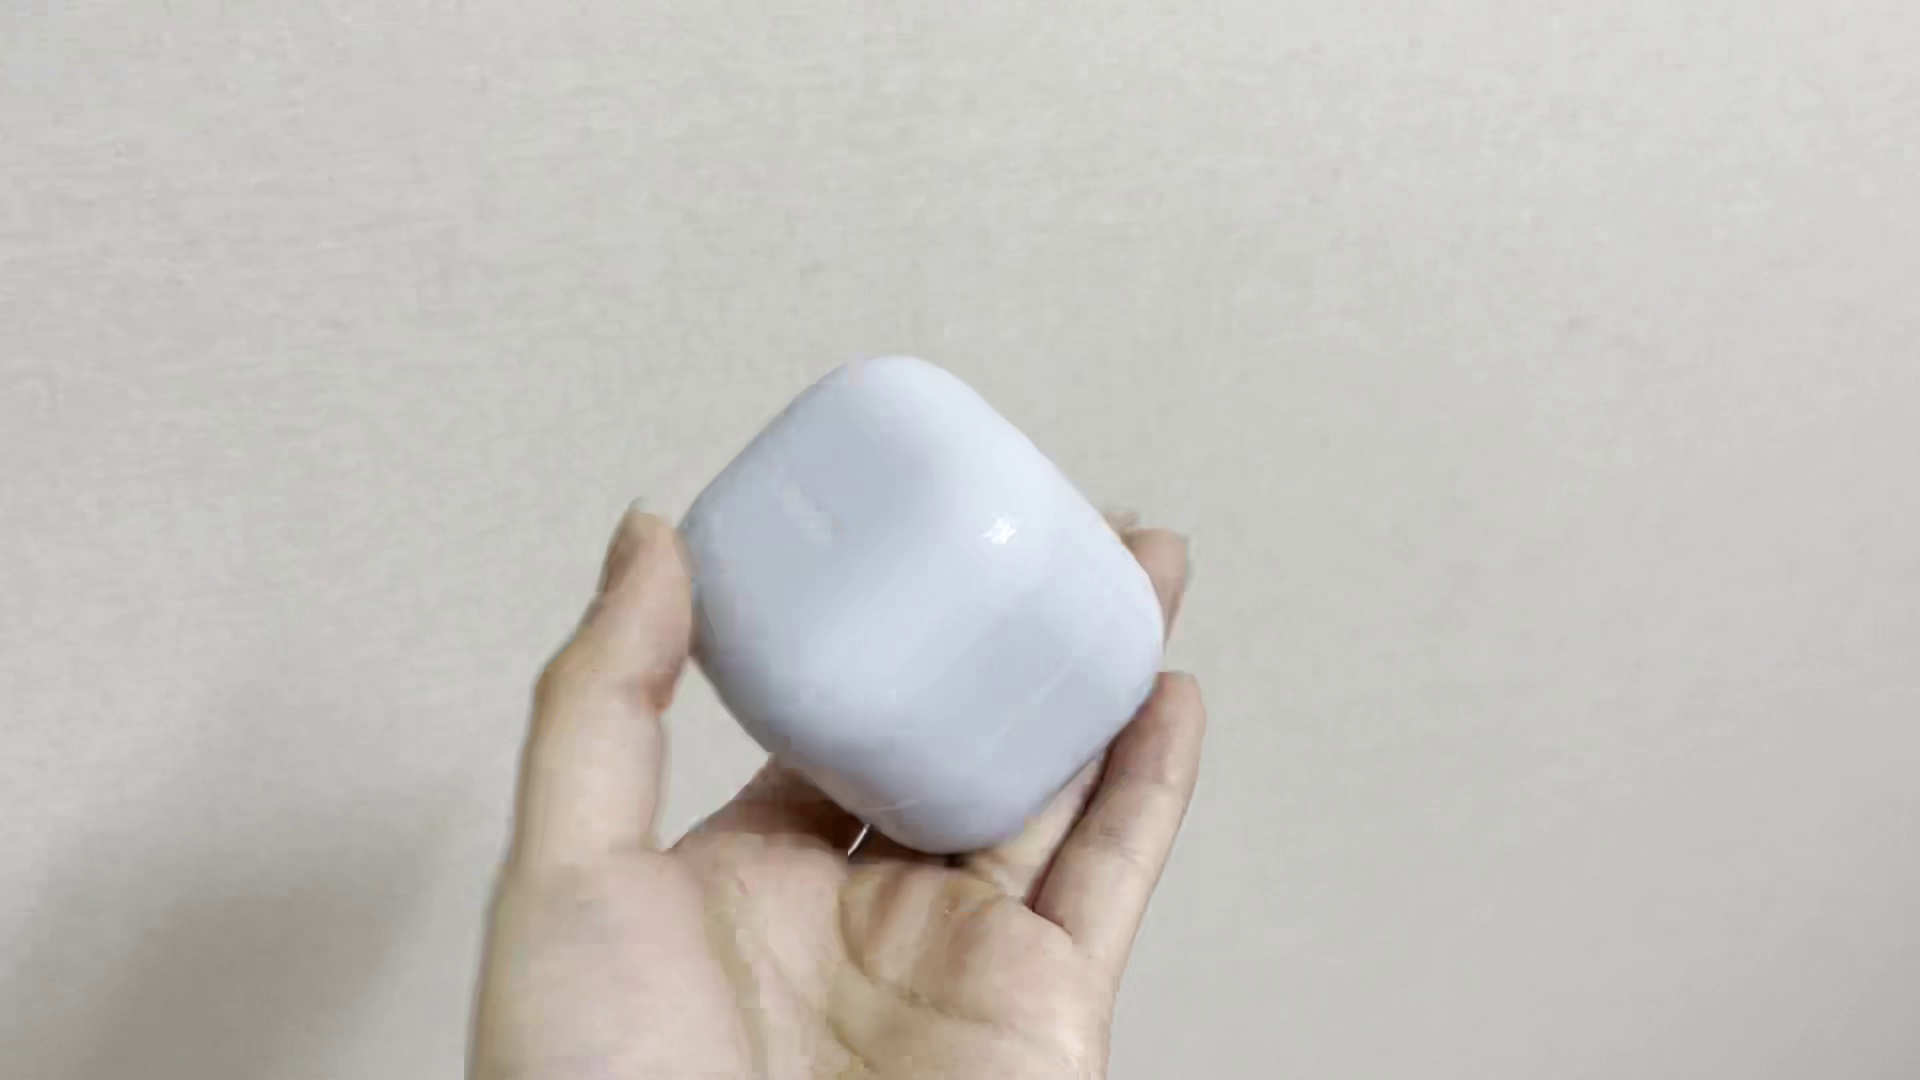cream: (674, 353, 1164, 852)
